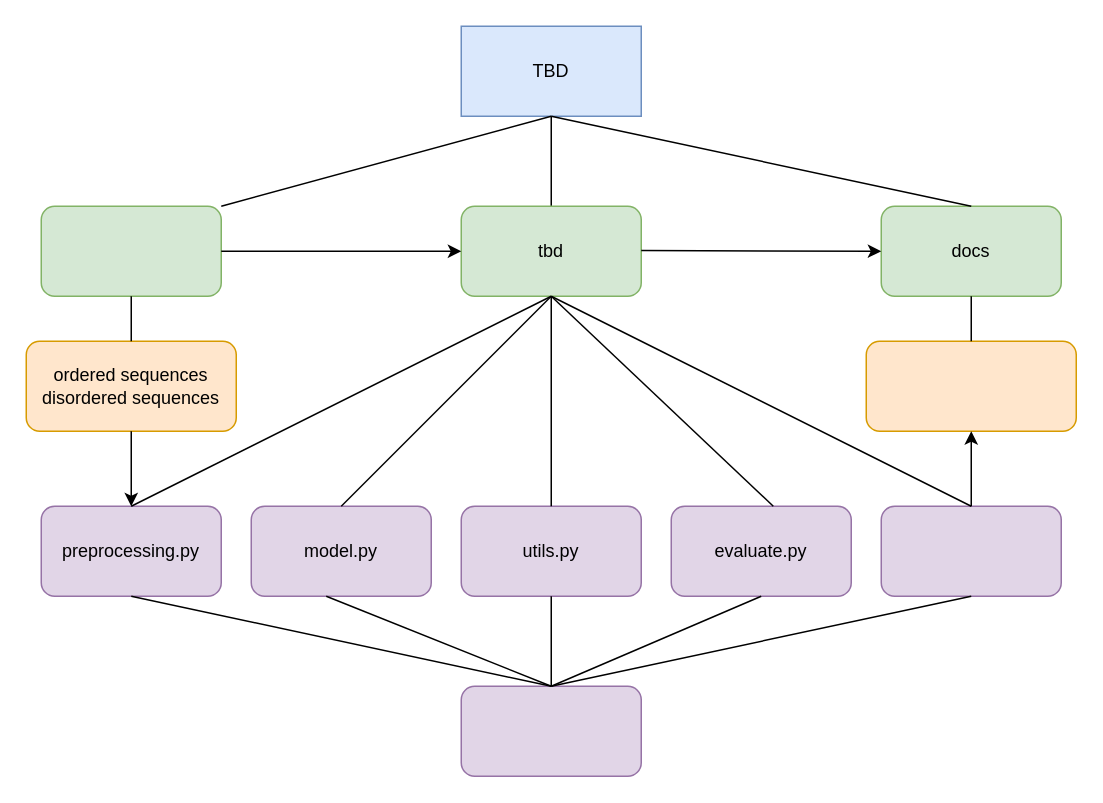
This 1103x803 diagram has some shape labels left out. The centre of each missing label's shape, as x and y in pixels:
"1. Launch the pipeline 2. Demo of prediction" belongs at pixel 970 385.
"data" belongs at pixel 130 250.
"predict.py" belongs at pixel 970 550.
"tests" belongs at pixel 550 730.
